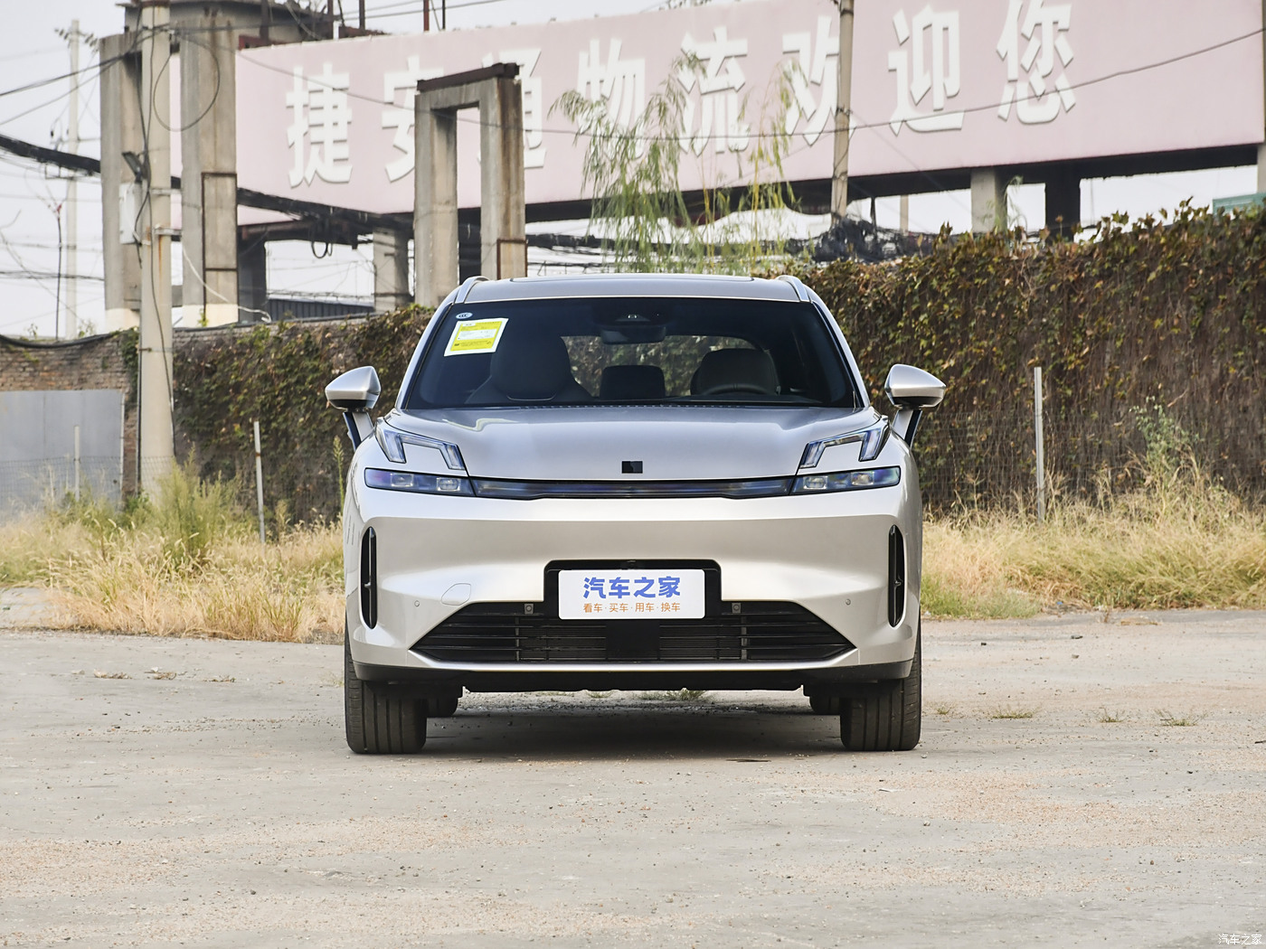LINK&CO: (622, 461, 642, 474)
